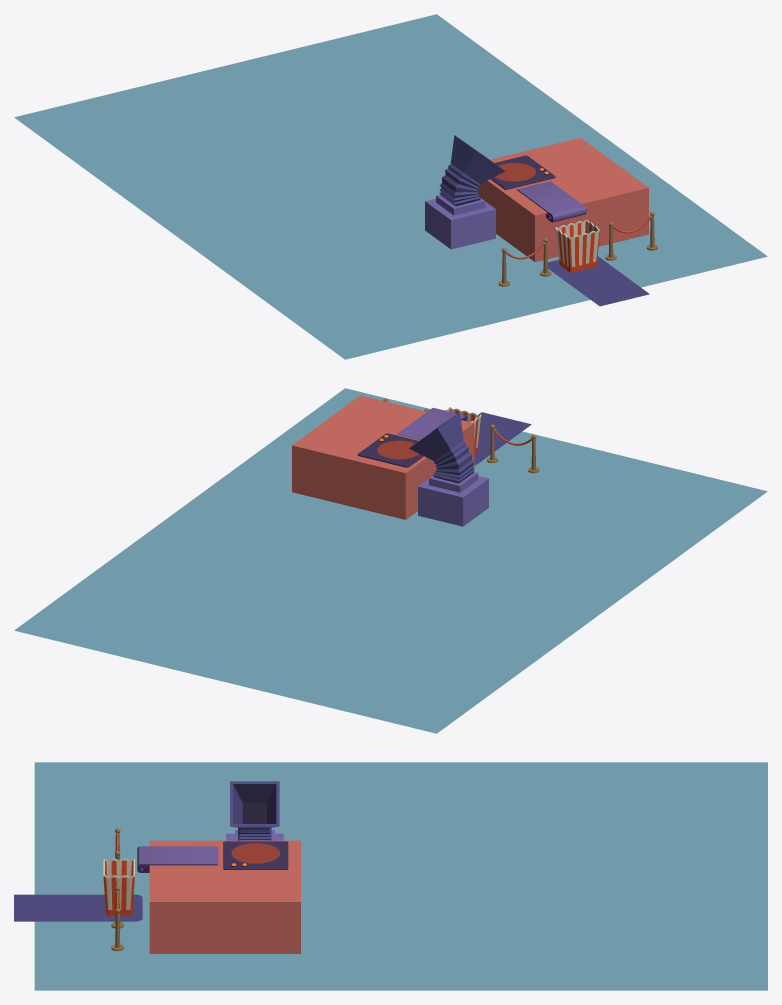
Rendered from popcorn-location.fbx.
The picture shows the model from 3 angles, top to bottom: view 1: azimuth 30°, elevation 25°; view 2: azimuth 150°, elevation 25°; view 3: azimuth 270°, elevation 25°; orthographic projection. The views are drawn at different scales.
Parts seen in each view (by area): view 1: Plane, table, corn tube, carpet, popcorn-bag, conveyor, stove, heat circle; view 2: Plane, table, corn tube, carpet, conveyor, stove, heat circle; view 3: Plane, table, carpet, corn tube, conveyor, popcorn-bag, stove, heat circle.
Part boxes in pixels (left/top/right/bottom): Plane: left=14, top=14, right=767, bottom=359; table: left=477, top=137, right=648, bottom=262; corn tube: left=425, top=135, right=505, bottom=249; carpet: left=547, top=256, right=649, bottom=306; popcorn-bag: left=555, top=219, right=600, bottom=272; conveyor: left=517, top=181, right=586, bottom=222; stove: left=490, top=155, right=555, bottom=189; heat circle: left=495, top=163, right=535, bottom=181; Plane: left=14, top=388, right=767, bottom=733; table: left=292, top=395, right=474, bottom=519; corn tube: left=409, top=412, right=488, bottom=526; carpet: left=474, top=412, right=531, bottom=465; conveyor: left=397, top=407, right=467, bottom=439; stove: left=357, top=433, right=423, bottom=467; heat circle: left=377, top=440, right=418, bottom=459; Plane: left=34, top=762, right=767, bottom=990; table: left=149, top=840, right=300, bottom=953; carpet: left=14, top=894, right=142, bottom=921; corn tube: left=226, top=781, right=283, bottom=840; conveyor: left=137, top=846, right=218, bottom=872; popcorn-bag: left=103, top=858, right=134, bottom=915; stove: left=223, top=841, right=288, bottom=869; heat circle: left=231, top=843, right=280, bottom=863.
Bounding box in the file's own units: 76.55 × 15.65 × 107.
